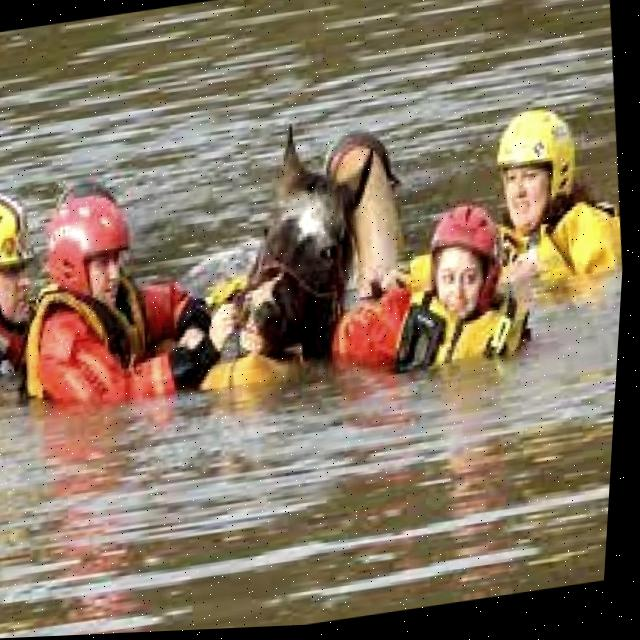horse: (214, 106, 431, 371)
rescuer: (0, 164, 240, 430), (458, 86, 633, 306), (371, 192, 546, 389), (0, 188, 53, 408)
